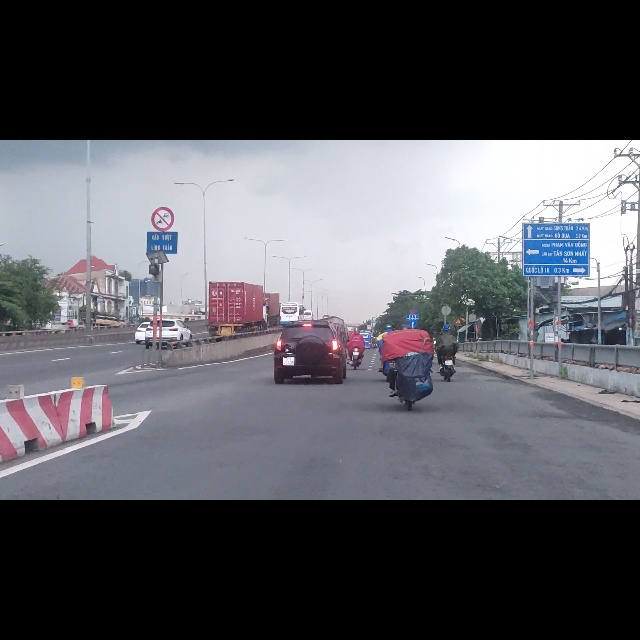bien_nguy_hiem: (152, 119, 174, 162), (409, 320, 418, 335), (67, 319, 72, 328)
